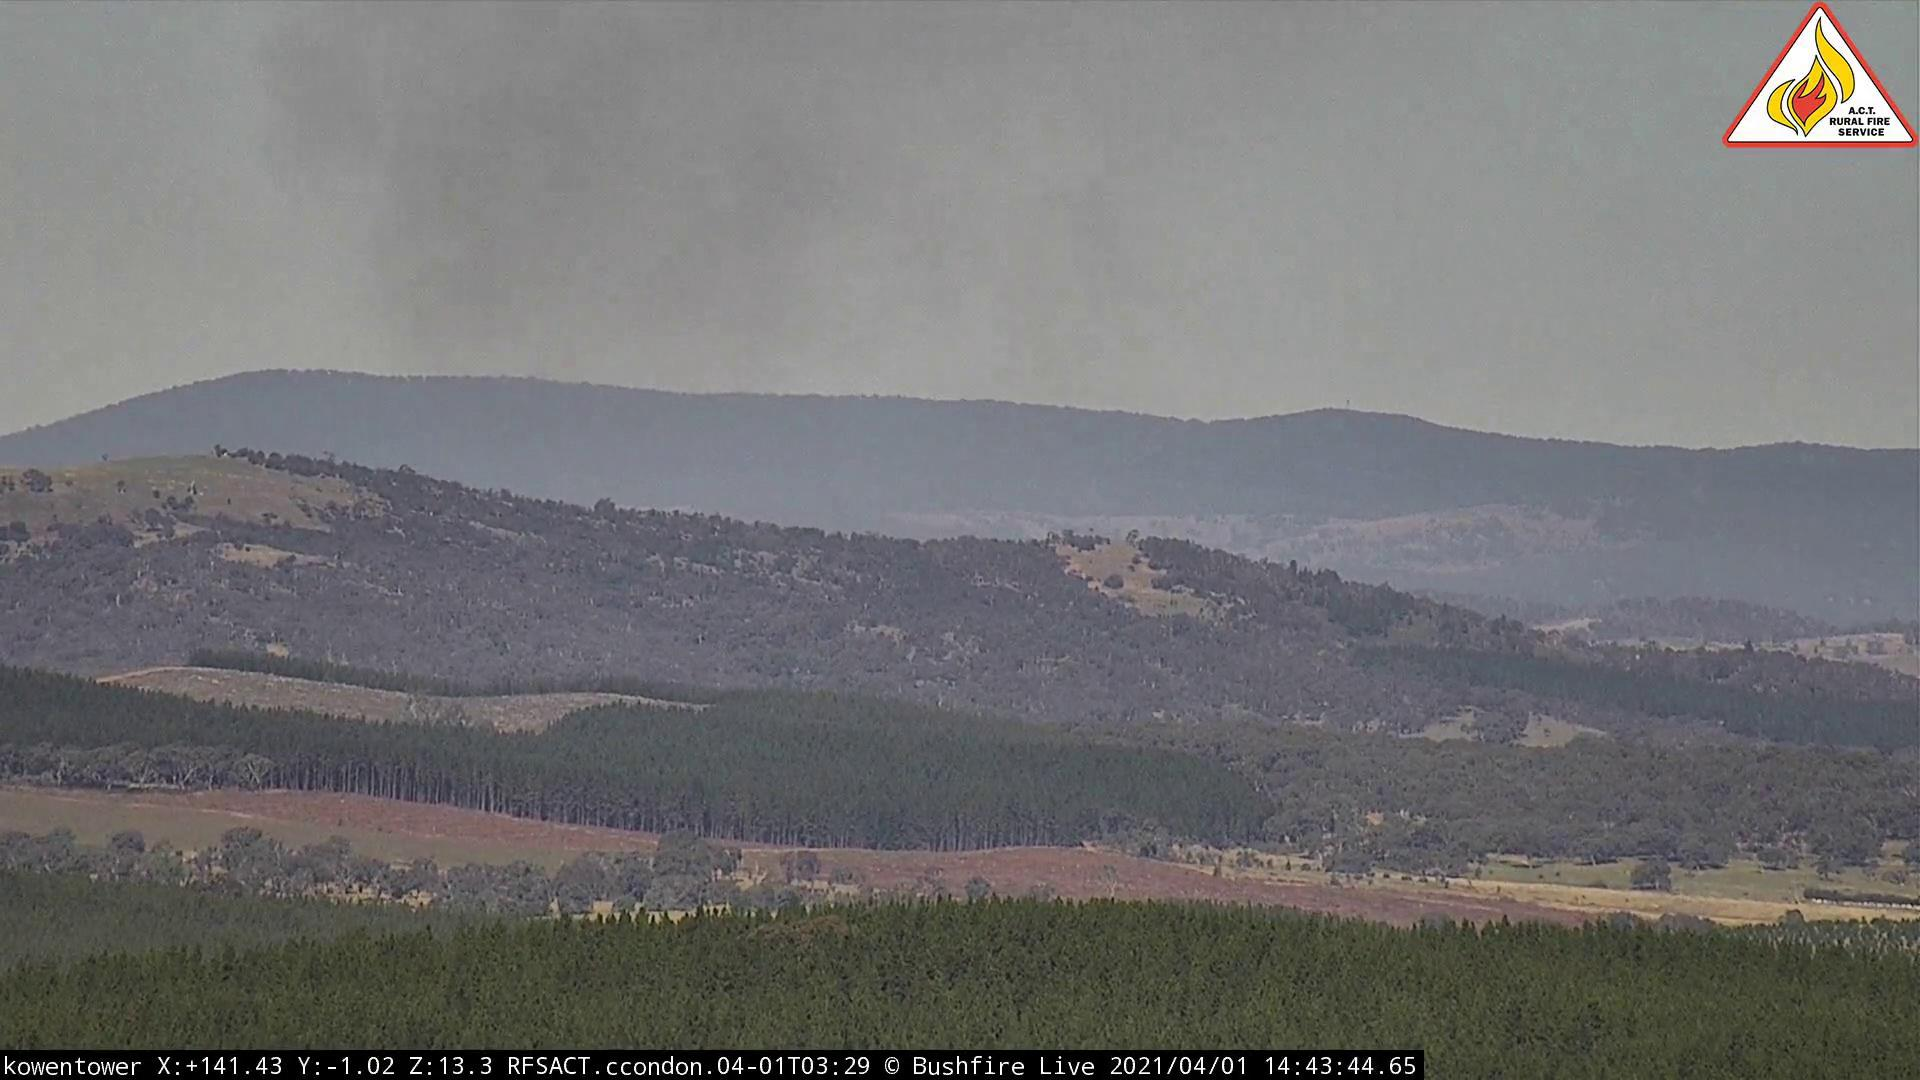Smoke: (265, 3, 1145, 434)
